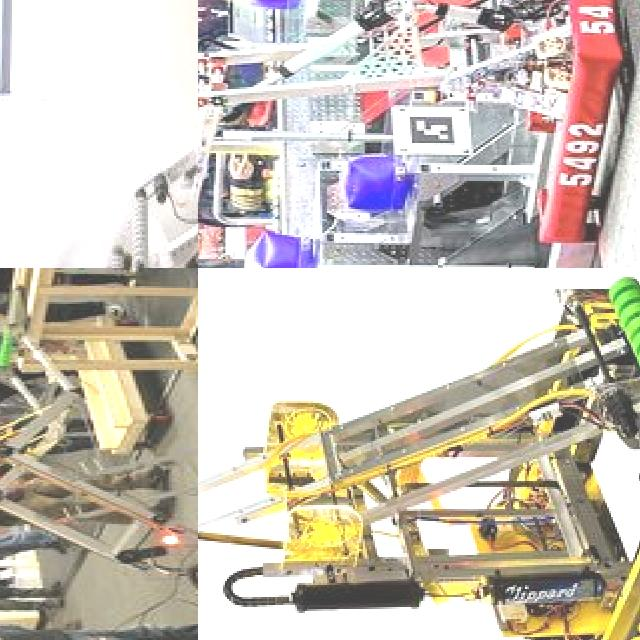FRC-Robots: (198, 268, 640, 640), (198, 0, 630, 268), (0, 0, 198, 268), (0, 398, 198, 616)
